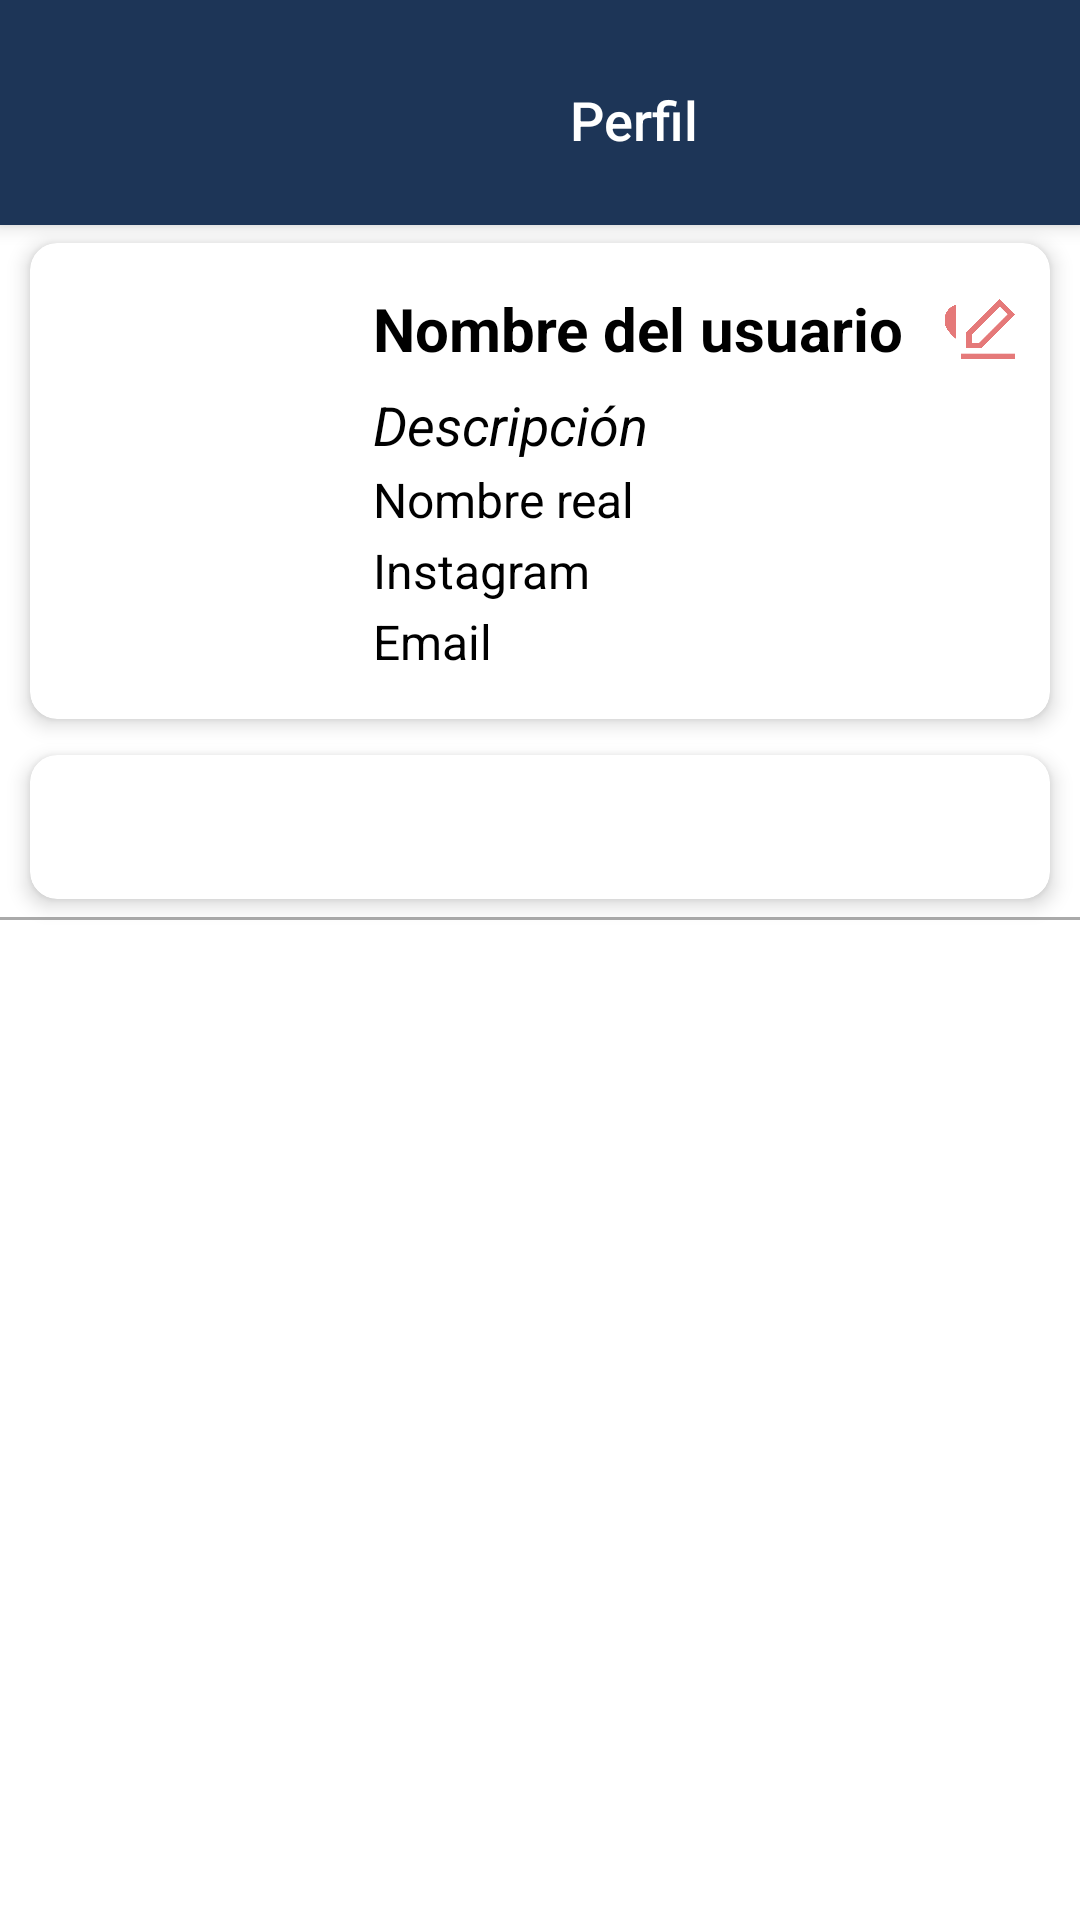

Icon click points for this 1080w x 1920h phone screenshot, format [x,y]:
edit: [988,329]
